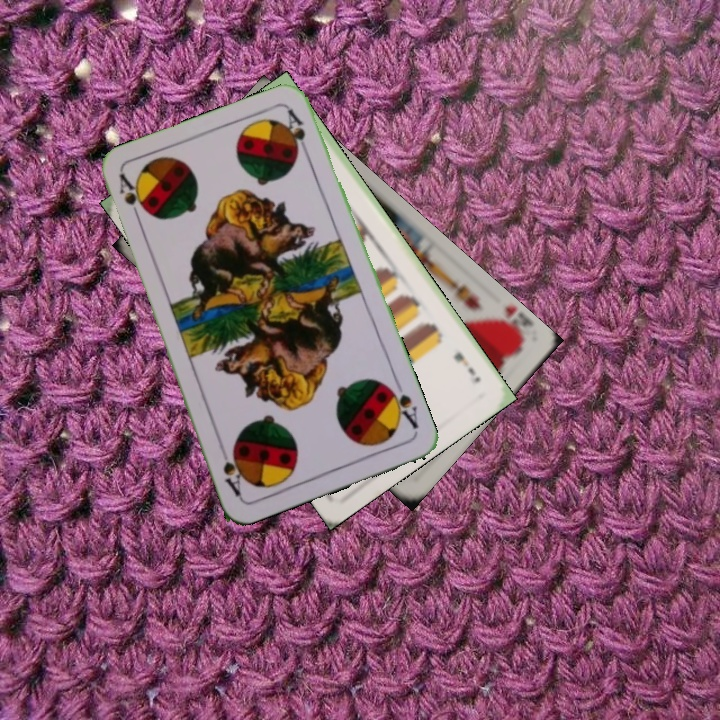E7: (449, 348, 484, 387)
HK: (489, 301, 534, 347)
SA: (382, 381, 421, 432), (115, 170, 146, 228)
